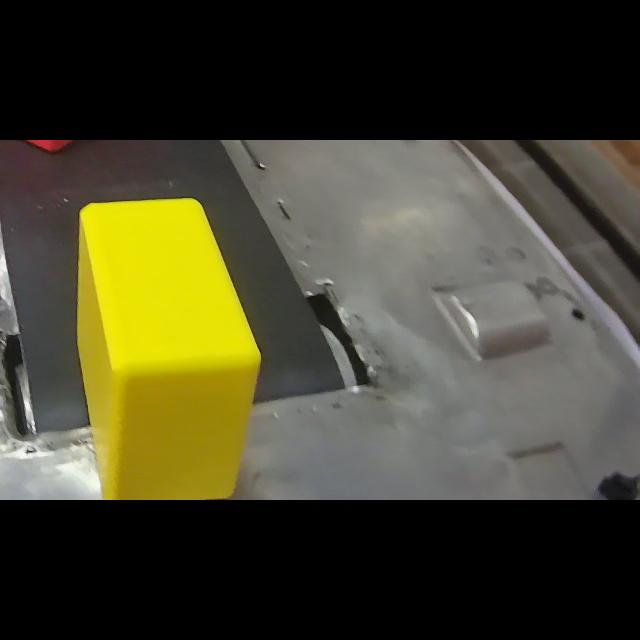redBox: (0, 140, 172, 164)
yellowBox: (71, 194, 267, 500)
